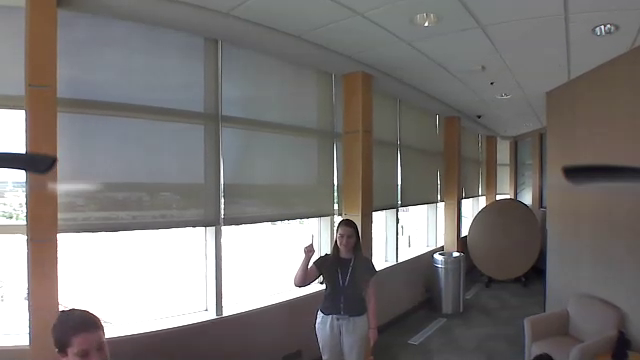up: (299, 230, 317, 260)
